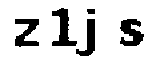1: (47, 7, 78, 48)
j: (77, 7, 102, 60)
s: (116, 18, 146, 48)
z: (9, 16, 41, 49)
